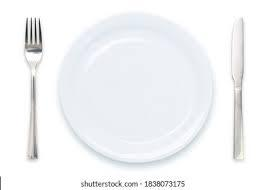Knife: (230, 16, 244, 160)
